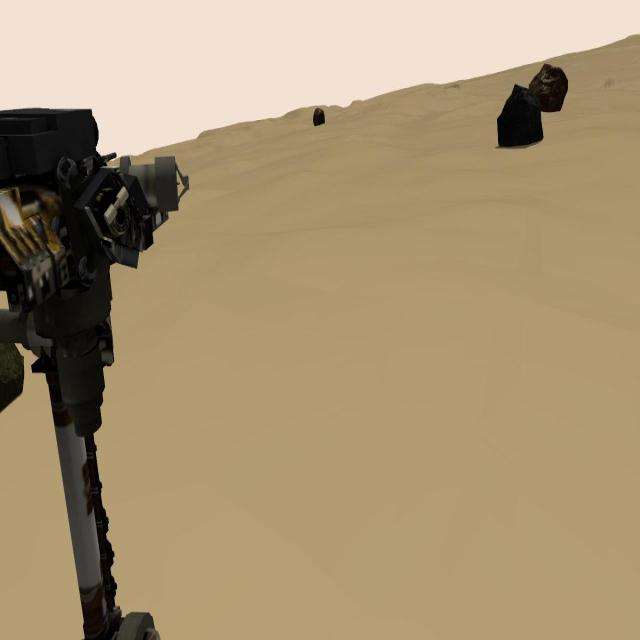rock: (497, 82, 544, 148), (529, 63, 568, 112), (313, 106, 325, 126)
